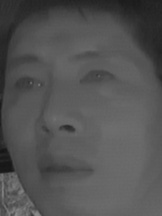eye: (76, 66, 117, 91), (10, 72, 46, 95)
mouth: (35, 148, 93, 190)
